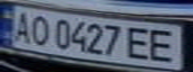0: (51, 16, 72, 51)
2: (84, 20, 106, 55)
4: (66, 19, 87, 53)
7: (103, 21, 127, 57)
A: (6, 8, 36, 44)
E: (145, 26, 187, 64), (124, 25, 157, 61)
O: (24, 12, 54, 46)
